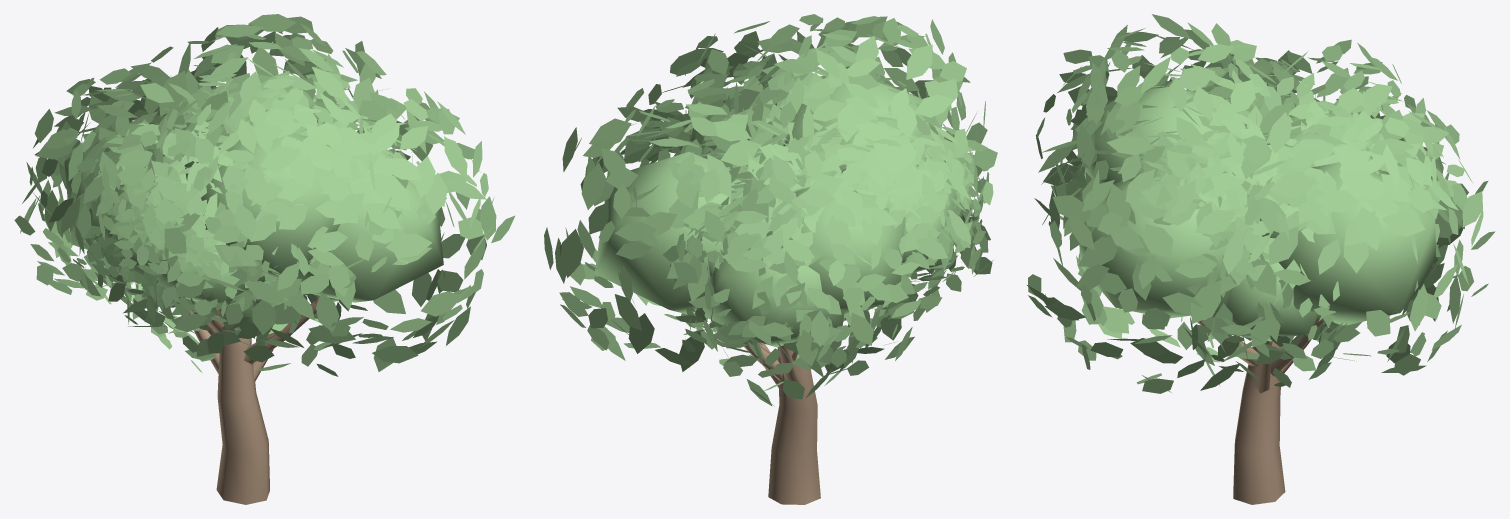
The model's file is tree_oak_B.glb.
3 renders of one model, left to right at view 1: azimuth 30°, elevation 25°; view 2: azimuth 150°, elevation 25°; view 3: azimuth 270°, elevation 25°, orthographic.
Visible parts, largest first — view 1: tree_oak_B; view 2: tree_oak_B; view 3: tree_oak_B.
Part boxes in pixels (x1,y1,x2,y2): tree_oak_B: (14, 14, 515, 504); tree_oak_B: (544, 14, 997, 504); tree_oak_B: (1027, 14, 1495, 504).
Size of the model in its own units: 1.55 by 1.82 by 1.72.
